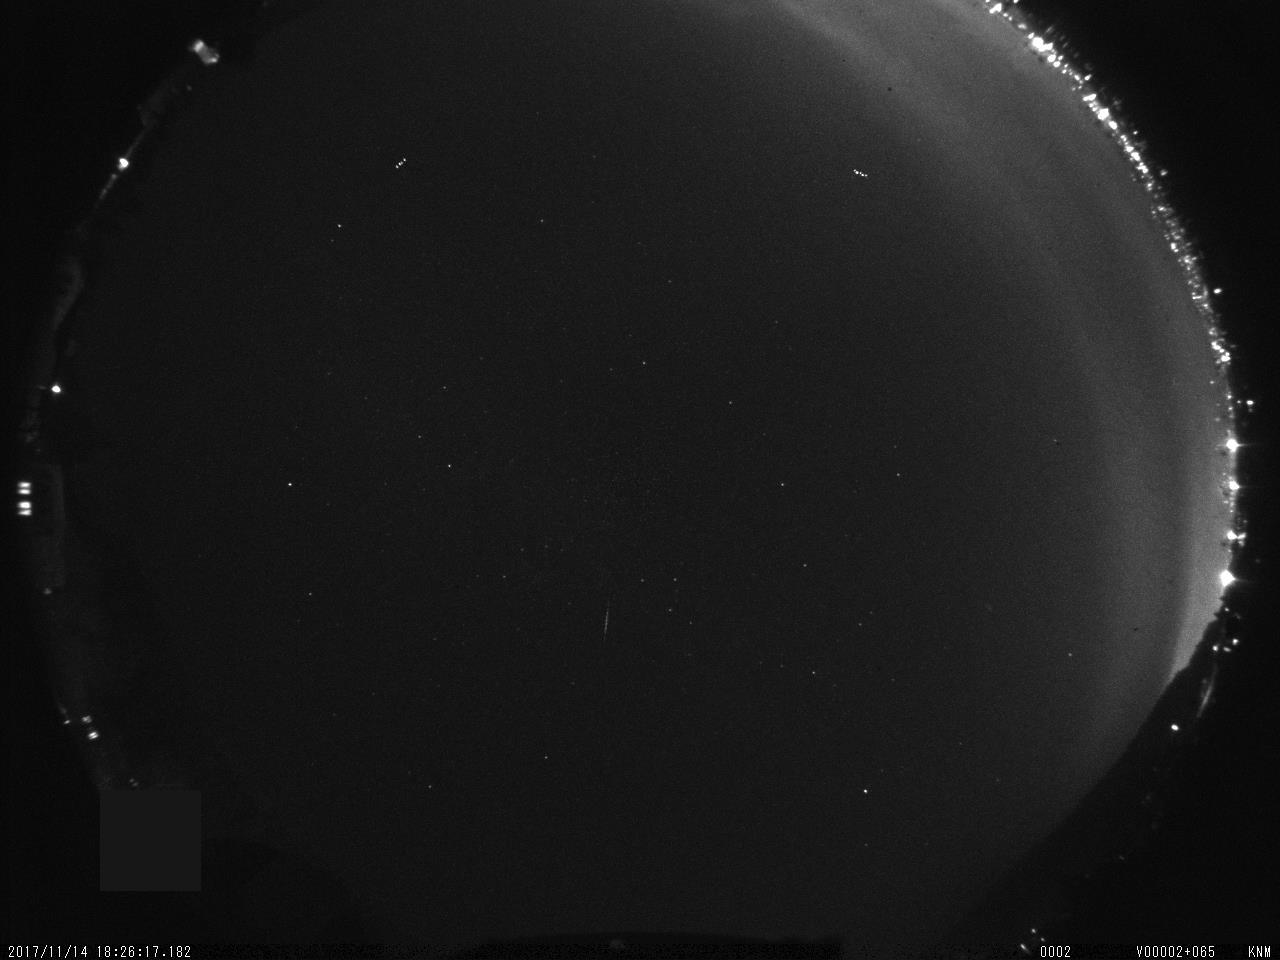meteor: (591, 592, 625, 646)
